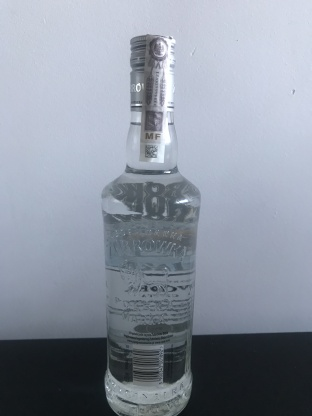nakretka: (127, 31, 178, 114)
